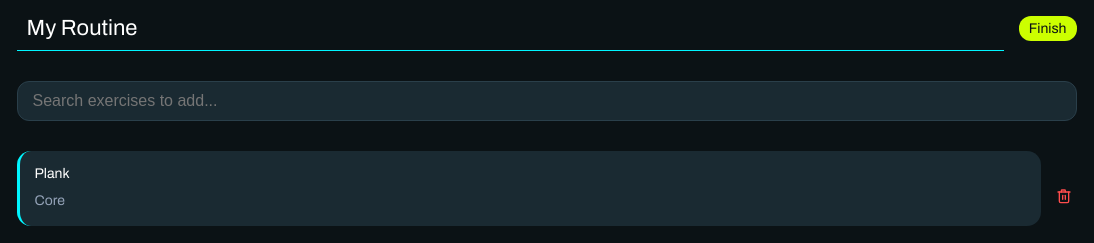
EditRoutinePage › shows search results as exercise cards when typing
In the search field with placeholder "Search exercises to add...": (546, 101) [16,81,1076,121], type "side"
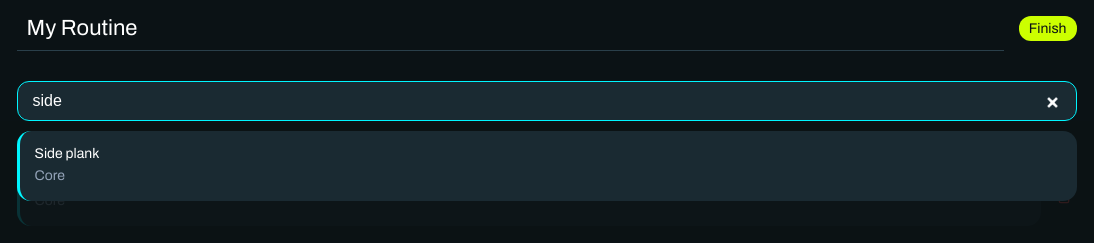
Check: the text "Side plank" is shown, box [34,146,99,161]
